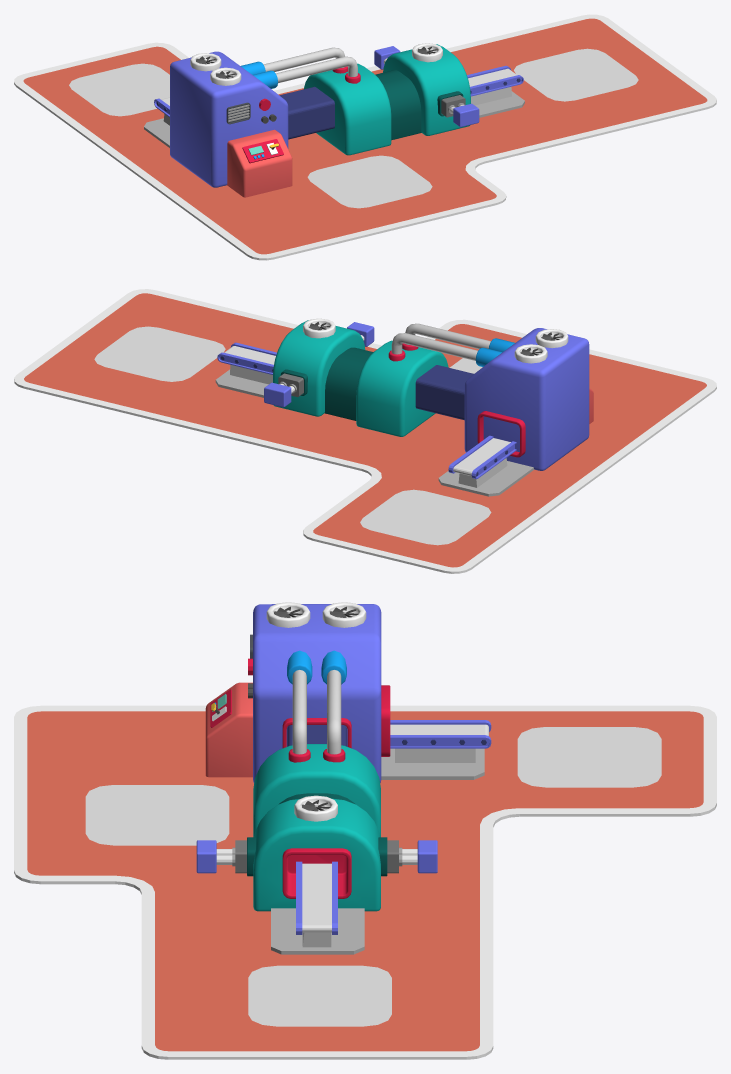
The model's file is Iron_Refining_Machine_L1.fbx.
3 views of the same model, one above another, from view 1: azimuth 30°, elevation 25°; view 2: azimuth 150°, elevation 25°; view 3: azimuth 270°, elevation 25° (orthographic). The views are drawn at different scales.
Parts seen in each view (by area): view 1: Cube.212, Cube.015, Cube.026, Buy Garbage Box.006, Buy Garbage Box.007, Buy Garbage Box.005, Cube.167, Cube.020, Cube.017, Cube.168, Cube.179, Cylinder.034 (+11 smaller); view 2: Cube.212, Cube.015, Cube.026, Buy Garbage Box.005, Buy Garbage Box.007, Cube.167, Cube.017, Cube.168, Cube.027, Cube.179, Cylinder.037, Cylinder.034 (+11 smaller); view 3: Cube.212, Cube.015, Buy Garbage Box.007, Cube.167, Buy Garbage Box.005, Buy Garbage Box.006, Cube.026, Cube.020, Cube.169, Cube.179, Cube.172, Cube.027 (+11 smaller).
Part boxes in pixels (<box>): Cube.212: <box>14,14,716,260</box>; Cube.015: <box>170,51,288,187</box>; Cube.026: <box>304,63,391,155</box>; Buy Garbage Box.006: <box>307,155,432,208</box>; Buy Garbage Box.007: <box>514,48,638,101</box>; Buy Garbage Box.005: <box>69,63,169,116</box>; Cube.167: <box>383,44,470,135</box>; Cube.020: <box>227,129,292,197</box>; Cube.017: <box>279,86,334,139</box>; Cube.168: <box>375,70,421,140</box>; Cube.179: <box>374,46,479,127</box>; Cylinder.034: <box>276,56,357,83</box>; Cube.212: <box>14,289,716,573</box>; Cube.015: <box>464,328,589,470</box>; Cube.026: <box>356,340,448,436</box>; Buy Garbage Box.005: <box>360,489,491,545</box>; Buy Garbage Box.007: <box>94,326,225,381</box>; Cube.167: <box>273,320,365,416</box>; Cube.017: <box>415,365,473,420</box>; Cube.168: <box>324,347,373,420</box>; Cube.027: <box>438,461,534,496</box>; Cube.179: <box>264,322,374,407</box>; Cylinder.037: <box>391,333,477,360</box>; Cylinder.034: <box>405,323,490,349</box>; Cube.212: <box>14,705,716,1059</box>; Cube.015: <box>253,604,381,783</box>; Buy Garbage Box.007: <box>248,965,391,1026</box>; Cube.167: <box>253,798,380,911</box>; Buy Garbage Box.005: <box>517,727,661,787</box>; Buy Garbage Box.006: <box>85,785,229,845</box>; Cube.026: <box>253,744,380,837</box>; Cube.020: <box>205,682,252,777</box>; Cube.169: <box>271,908,364,954</box>; Cube.179: <box>196,840,437,873</box>; Cube.172: <box>302,863,331,932</box>; Cube.027: <box>381,748,484,779</box>.
Bounding box in the file's own units: 2600 × 505 × 2200.
